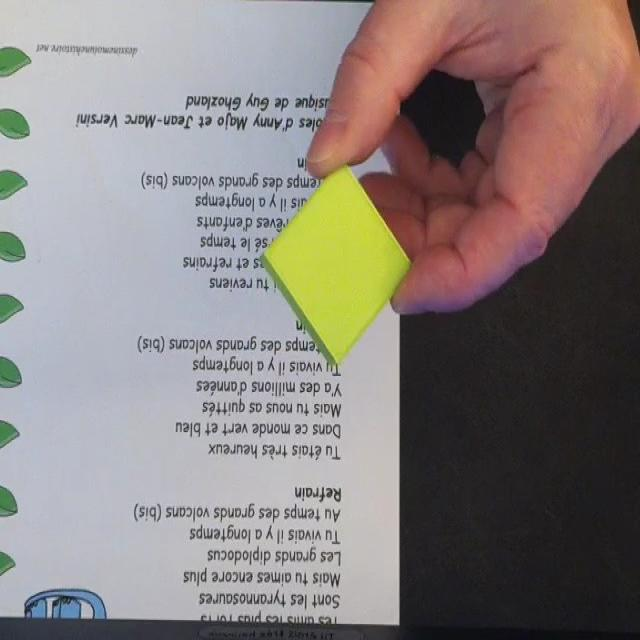square: (258, 162, 415, 366)
